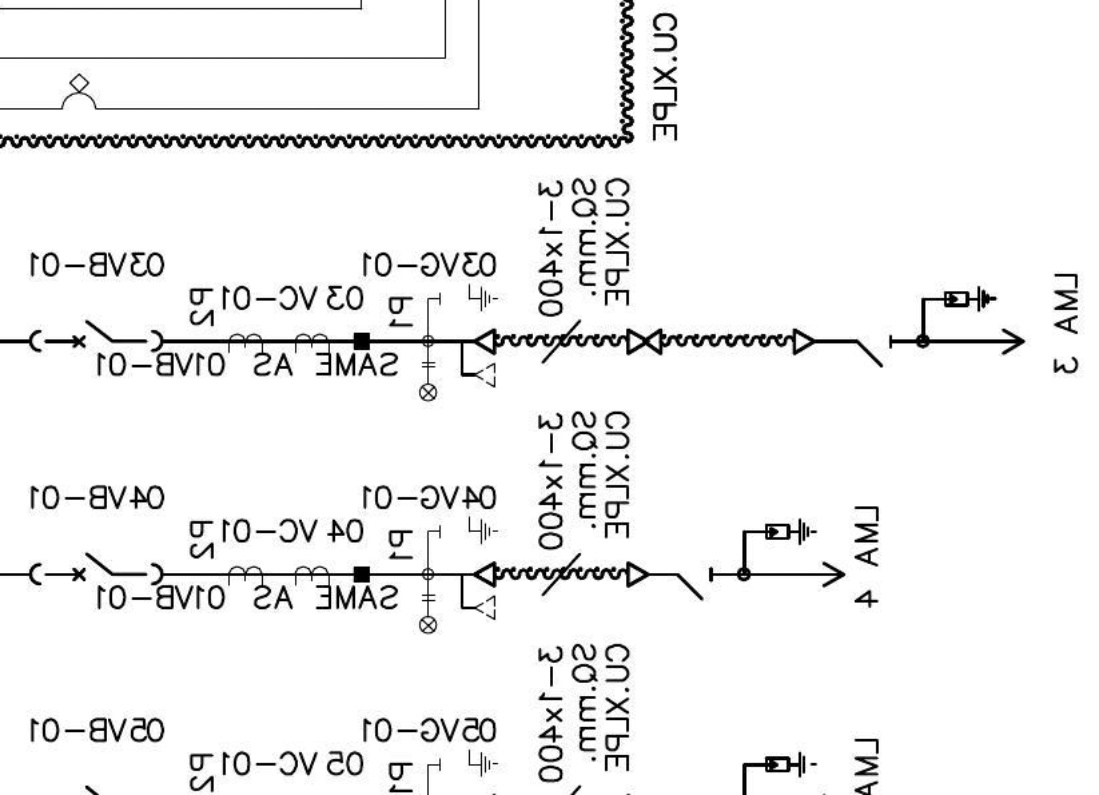22_breaker: (28, 318, 165, 354), (28, 551, 165, 587)
22_ds_la_out: (855, 285, 1026, 369), (676, 517, 847, 601)
22_gs: (437, 282, 498, 313), (437, 515, 498, 546), (437, 747, 498, 777)
22_ll: (417, 593, 438, 635), (418, 361, 438, 403)
terminator_single: (624, 559, 649, 590), (790, 327, 815, 357)
terminator_splicing_kits: (625, 327, 663, 356)
terminator_w_future: (458, 327, 498, 390), (458, 560, 497, 623)
